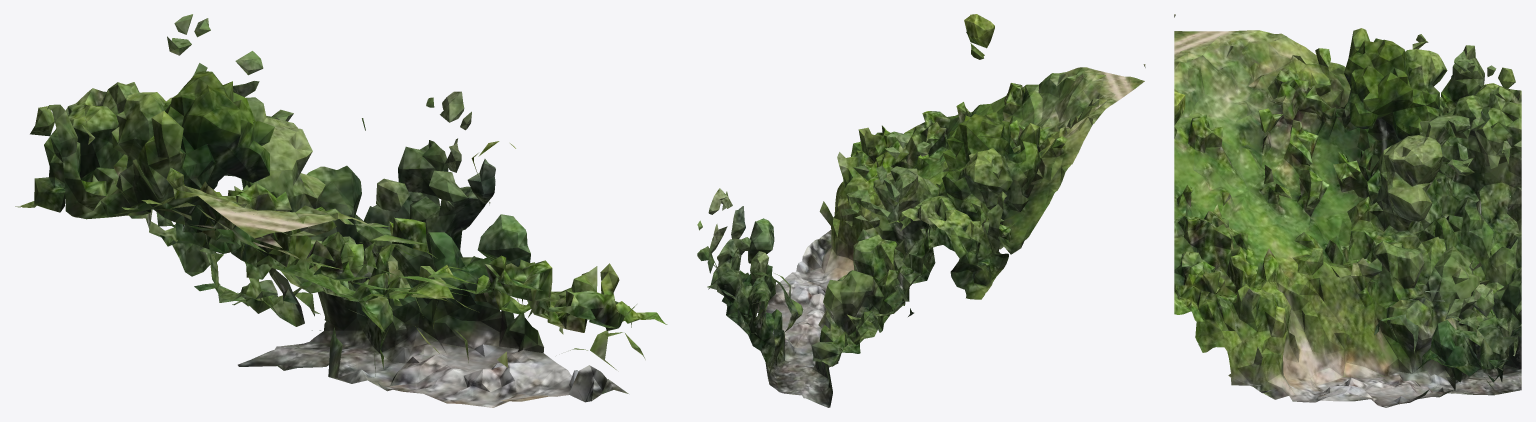
The picture shows the model from 3 angles, left to right: view 1: azimuth 30°, elevation 25°; view 2: azimuth 150°, elevation 25°; view 3: azimuth 270°, elevation 25°; orthographic projection. The views are drawn at different scales.
Bounding box in the file's own units: 52.22 × 47.44 × 52.22.
Materials: 8 (8 with a texture image).
